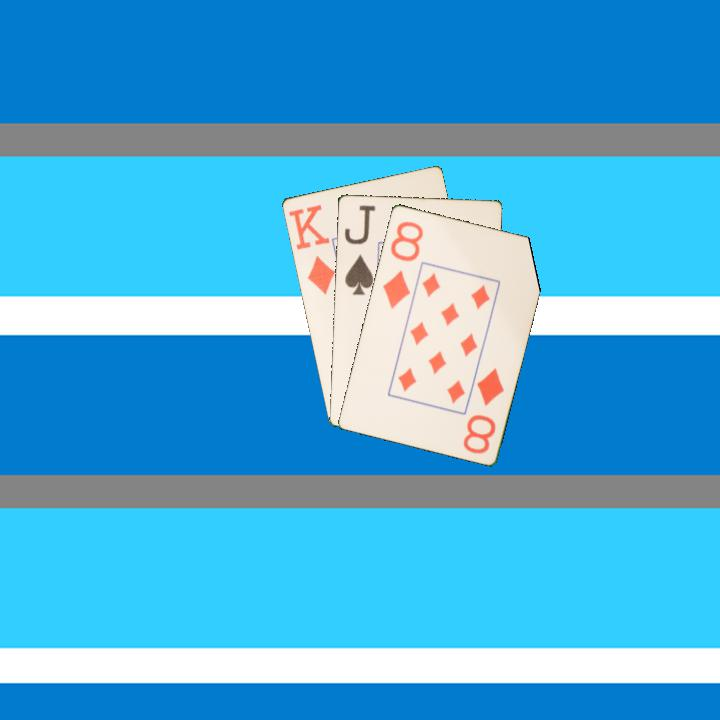8d: (379, 217, 426, 311), (459, 364, 507, 456)
Js: (341, 201, 378, 298)
Kd: (285, 201, 338, 297)
